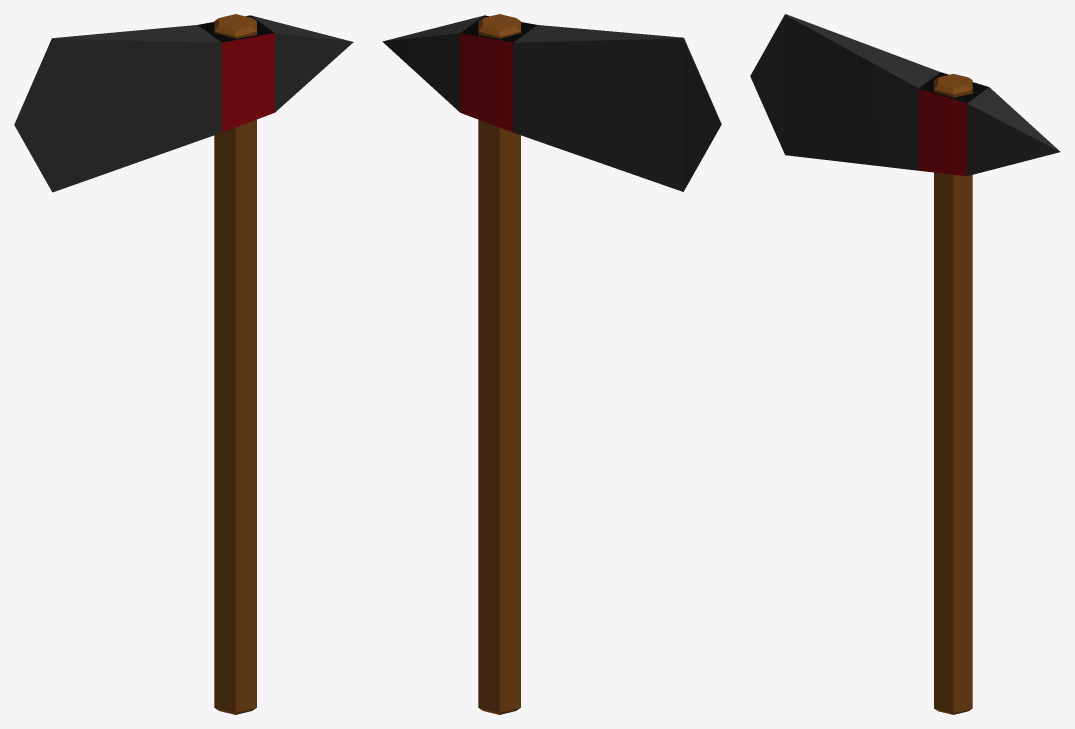
The model's file is Hacha_Coco.fbx.
The picture shows the model from 3 angles, left to right: view 1: azimuth 30°, elevation 25°; view 2: azimuth 150°, elevation 25°; view 3: azimuth 330°, elevation 25°; orthographic projection. The views are drawn at different scales.
Visible parts, largest first — view 1: Cylinder001; view 2: Cylinder001; view 3: Cylinder001.
Boxes of the visible parts, x1=… form: Cylinder001: x1=14, y1=14, x2=353, y2=714; Cylinder001: x1=382, y1=14, x2=721, y2=714; Cylinder001: x1=750, y1=14, x2=1060, y2=714.
Bounding box in the file's own units: 43.35 × 87.01 × 5.36.
